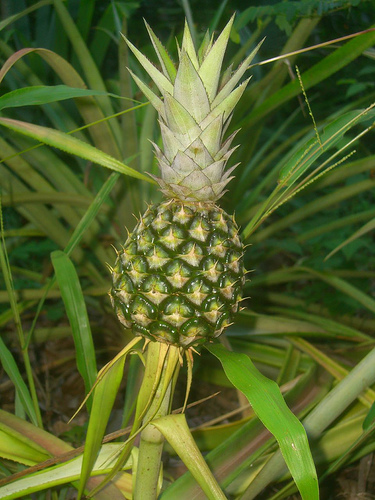pineapple: (107, 12, 267, 350)
